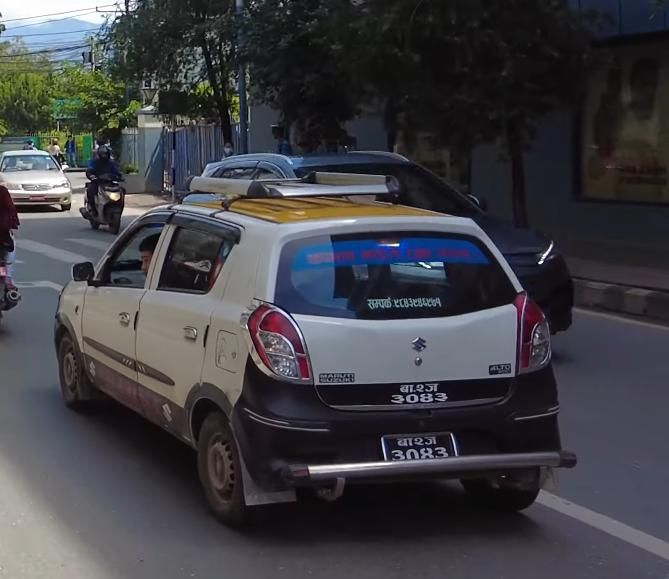bike: (0, 209, 25, 341)
car: (0, 149, 77, 216)
scooter: (78, 180, 125, 234)
taxi: (48, 189, 583, 523)
